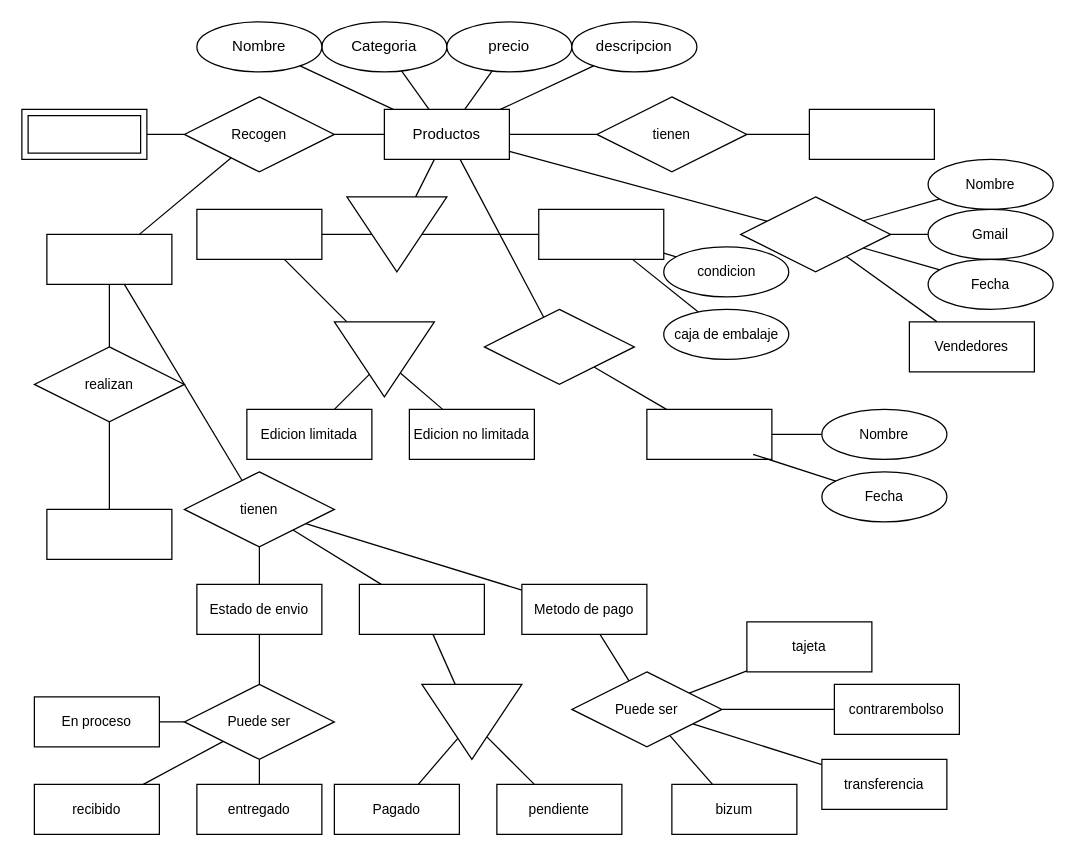
The diagram is 1075 pixels wide and 856 high, and some of its shapes have lost their labels. Each missing label, with the centre of its shape:
"compradores" goes at (109,533).
"ediciones especiales" goes at (709,433).
"Estado" goes at (421,608).
"Fecha del pedido" goes at (84,133).
"nuevos" goes at (259,233).
"oertas" goes at (871,133).
"pedidos" goes at (109,258).
"pertenecen" goes at (558,346).
"registran" goes at (815,234).
"segunda mano" goes at (601,233).
